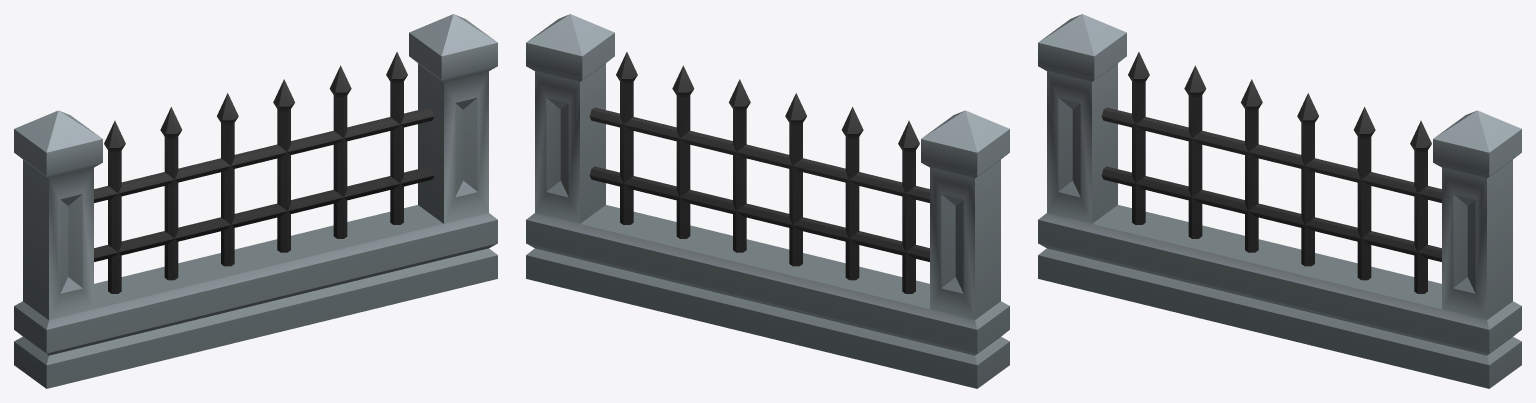
The model's file is kay-grade-ferro.gltf.
3 renders of one model, left to right at view 1: azimuth 30°, elevation 25°; view 2: azimuth 150°, elevation 25°; view 3: azimuth 330°, elevation 25°, orthographic.
Visible parts, largest first — view 1: fence; view 2: fence; view 3: fence.
Part boxes in pixels (x1,y1,x2,y2): fence: (14, 14, 497, 388); fence: (526, 14, 1009, 388); fence: (1038, 14, 1521, 388).
Size of the model in its own units: 2 by 1.1 by 0.25.
Materials: 1 (1 with a texture image).
